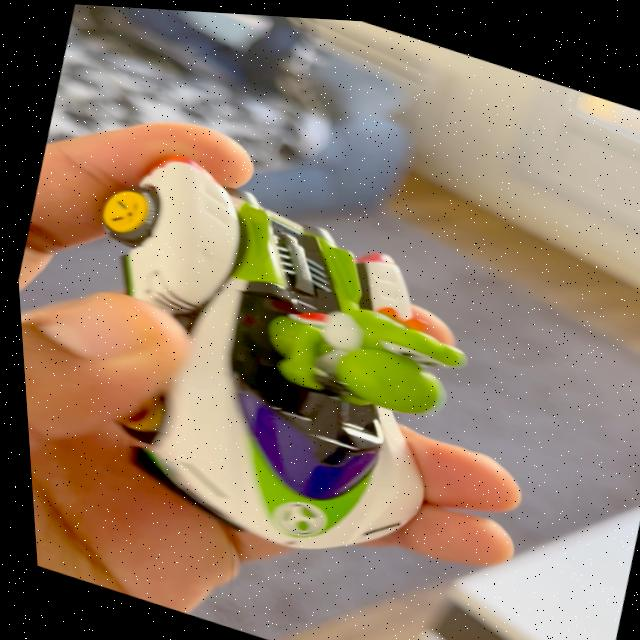yoshi: (6, 116, 509, 603)
